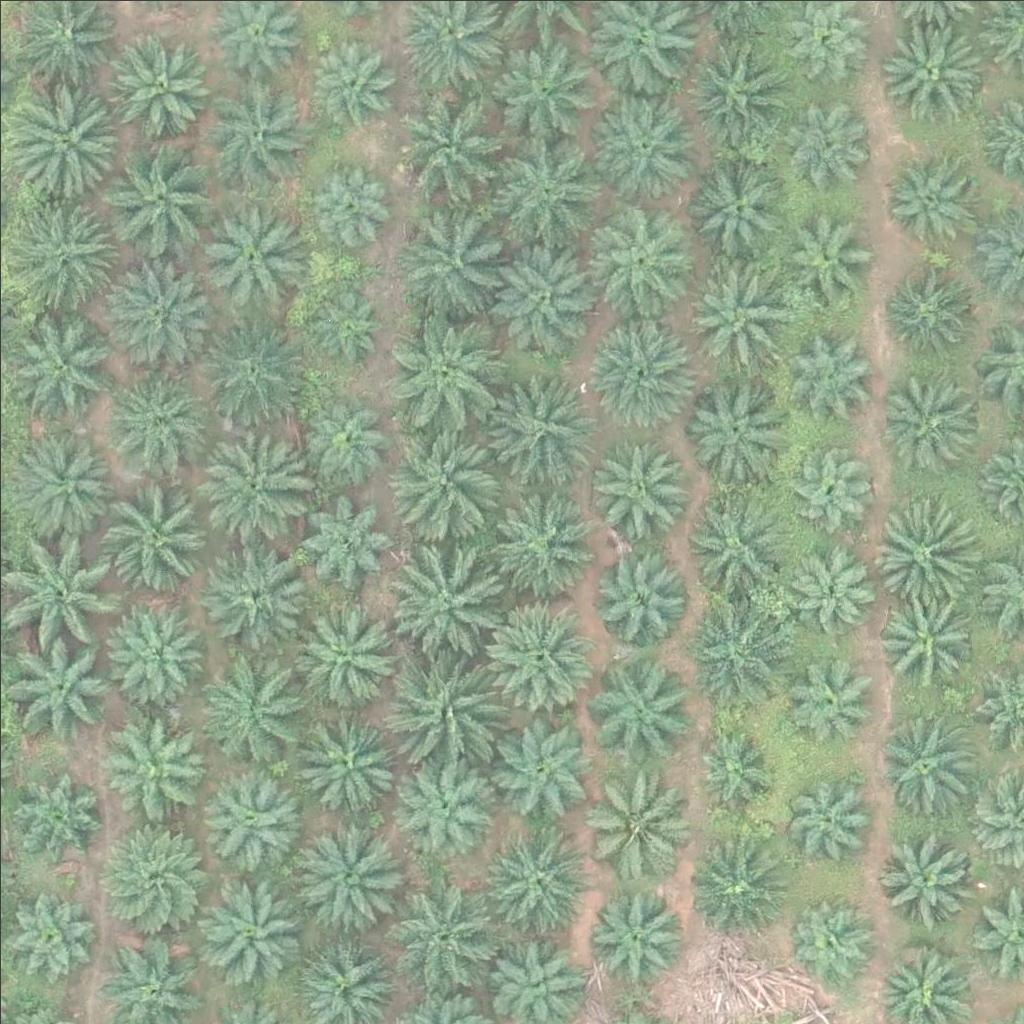Kelapa_Sawit: (200, 531, 313, 645), (482, 374, 595, 488), (7, 426, 120, 539), (3, 309, 116, 422), (10, 193, 123, 306), (97, 479, 210, 592), (392, 649, 505, 762), (383, 420, 496, 533), (489, 239, 602, 352), (482, 485, 595, 598), (585, 648, 698, 761), (583, 313, 696, 426), (677, 251, 790, 364), (679, 493, 792, 606), (678, 593, 791, 706), (102, 828, 215, 941), (195, 871, 308, 984), (484, 827, 597, 940), (94, 26, 206, 140), (389, 314, 501, 428), (680, 36, 792, 150), (869, 493, 981, 607), (6, 530, 118, 643), (4, 80, 116, 193), (103, 148, 215, 261), (107, 257, 219, 370), (194, 650, 306, 763), (193, 418, 305, 531), (194, 316, 306, 429), (193, 197, 305, 310), (204, 76, 316, 189), (288, 597, 400, 710), (387, 537, 499, 650), (398, 205, 510, 318), (393, 95, 505, 208), (491, 40, 603, 153), (492, 131, 604, 244), (484, 601, 596, 714), (585, 84, 697, 197), (876, 15, 988, 128), (290, 822, 402, 935), (386, 877, 498, 990), (576, 764, 688, 877), (104, 364, 204, 465), (98, 601, 198, 702), (293, 487, 393, 588), (593, 542, 693, 643), (585, 438, 685, 539), (589, 201, 689, 302), (693, 157, 793, 258), (682, 374, 782, 475), (883, 149, 983, 250), (870, 582, 970, 683), (8, 769, 108, 870), (109, 719, 209, 820), (200, 770, 300, 871), (303, 708, 403, 809), (394, 753, 494, 854), (494, 718, 594, 819), (582, 884, 682, 985), (15, 631, 115, 731), (882, 372, 982, 472), (688, 831, 788, 931), (874, 829, 974, 929), (875, 714, 975, 814), (791, 651, 879, 739), (787, 539, 875, 627), (782, 213, 870, 301), (777, 93, 865, 181), (889, 268, 977, 356), (691, 730, 779, 818), (305, 39, 392, 127), (305, 163, 392, 251), (294, 396, 381, 484), (786, 442, 873, 530), (785, 323, 872, 411), (785, 776, 872, 864), (788, 899, 875, 987), (308, 285, 383, 361)
